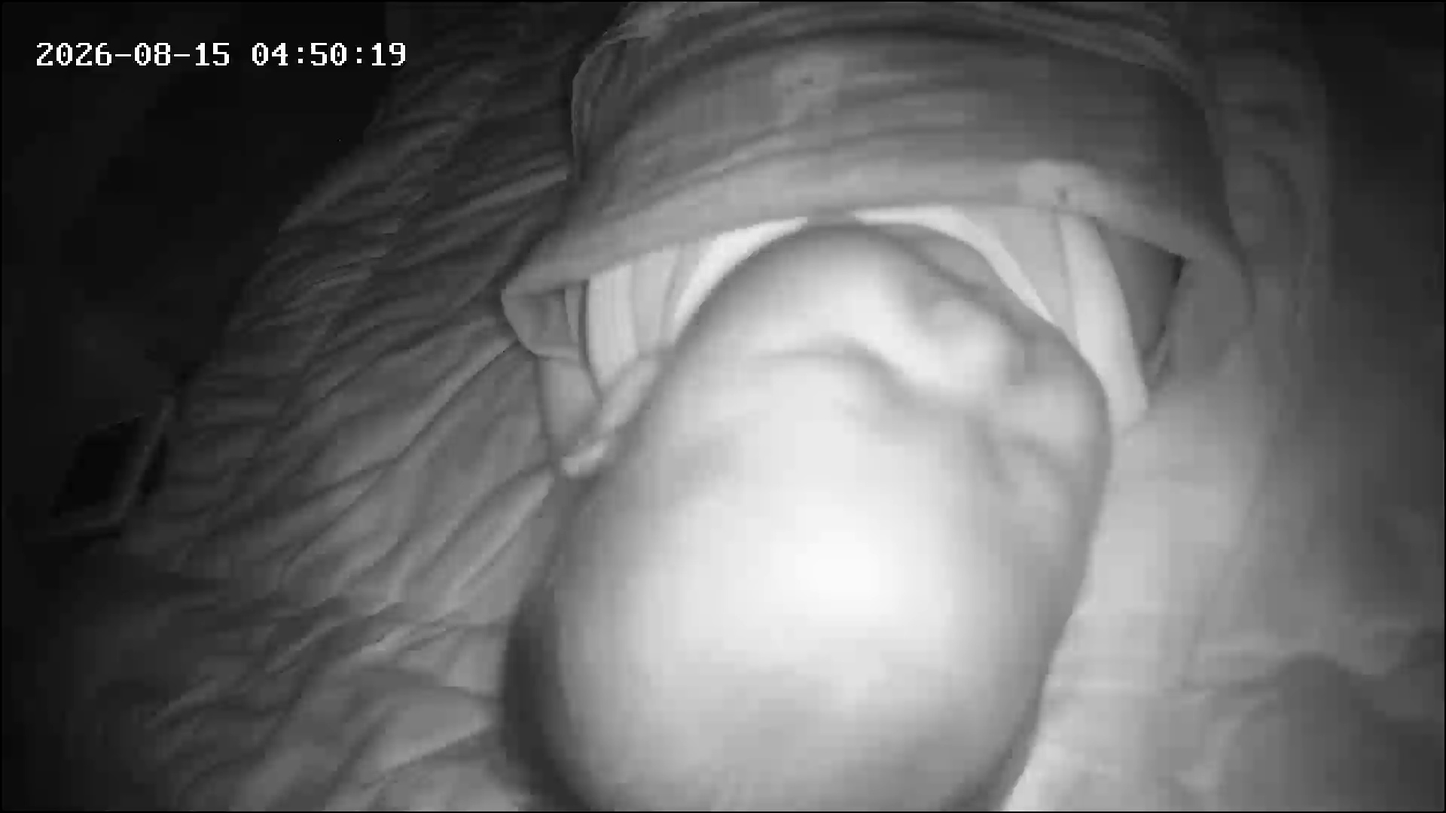baby: (494, 4, 1253, 812)
baby_face: (491, 216, 1113, 812)
